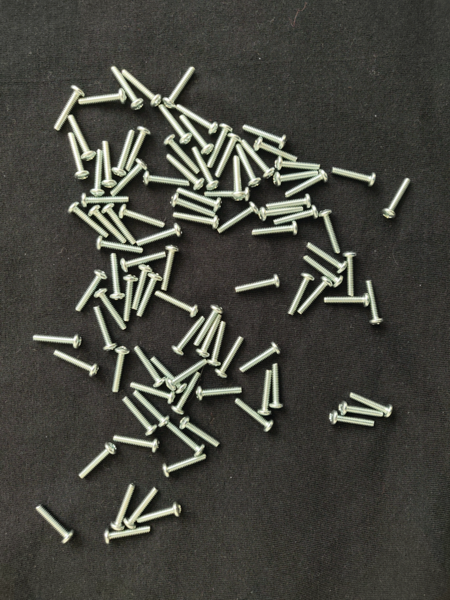longscrew: (34, 502, 76, 546), (120, 67, 162, 109), (87, 204, 129, 245), (77, 441, 120, 481), (67, 200, 111, 239), (51, 84, 86, 133), (123, 485, 161, 530), (109, 64, 145, 111), (162, 133, 202, 175), (101, 201, 138, 246), (93, 287, 129, 333), (148, 354, 188, 395), (164, 151, 205, 191), (73, 269, 109, 314), (131, 388, 171, 428), (165, 419, 206, 458), (120, 394, 158, 436), (239, 137, 276, 180), (381, 174, 414, 222), (164, 357, 209, 392), (163, 65, 198, 110), (133, 343, 167, 389), (234, 396, 275, 434), (178, 112, 214, 155), (157, 102, 193, 145), (174, 101, 219, 135), (109, 158, 149, 196), (215, 201, 261, 234), (214, 334, 247, 380), (171, 315, 207, 357), (109, 481, 138, 533), (67, 112, 97, 162), (305, 240, 349, 274), (238, 341, 283, 374), (193, 303, 226, 348), (297, 276, 334, 316), (171, 370, 203, 416), (52, 348, 101, 378), (178, 416, 222, 449), (134, 270, 164, 318), (302, 253, 344, 287), (214, 133, 244, 180), (286, 271, 317, 316), (124, 125, 153, 173), (206, 122, 235, 170), (161, 451, 210, 479), (242, 121, 289, 150), (348, 389, 395, 418), (195, 312, 224, 359), (191, 145, 220, 192), (175, 185, 223, 213), (153, 288, 199, 317), (92, 303, 118, 354), (283, 170, 330, 198), (235, 142, 263, 189), (317, 207, 344, 255), (169, 191, 217, 218), (128, 379, 177, 405), (252, 135, 299, 162), (135, 500, 185, 525), (135, 223, 185, 248), (112, 128, 137, 177), (67, 131, 91, 182), (118, 203, 166, 228), (329, 164, 378, 188), (119, 249, 168, 273), (110, 345, 133, 395), (131, 263, 155, 310), (233, 272, 284, 294), (205, 320, 228, 368), (112, 433, 162, 455), (272, 204, 321, 226), (102, 524, 153, 545), (365, 277, 386, 327), (94, 235, 145, 255), (160, 244, 181, 292), (31, 332, 84, 351), (108, 250, 127, 303), (171, 210, 221, 230), (329, 409, 376, 430), (272, 167, 320, 187), (142, 169, 190, 189), (78, 88, 130, 106), (337, 400, 385, 419), (265, 193, 315, 211), (122, 273, 140, 323), (274, 154, 321, 173), (257, 367, 274, 417), (195, 384, 245, 401), (80, 191, 130, 208), (100, 138, 117, 188), (251, 220, 300, 237), (343, 250, 360, 299), (269, 362, 286, 411), (203, 186, 253, 202), (323, 292, 373, 308), (89, 147, 105, 197), (258, 205, 305, 222), (231, 154, 247, 202)
